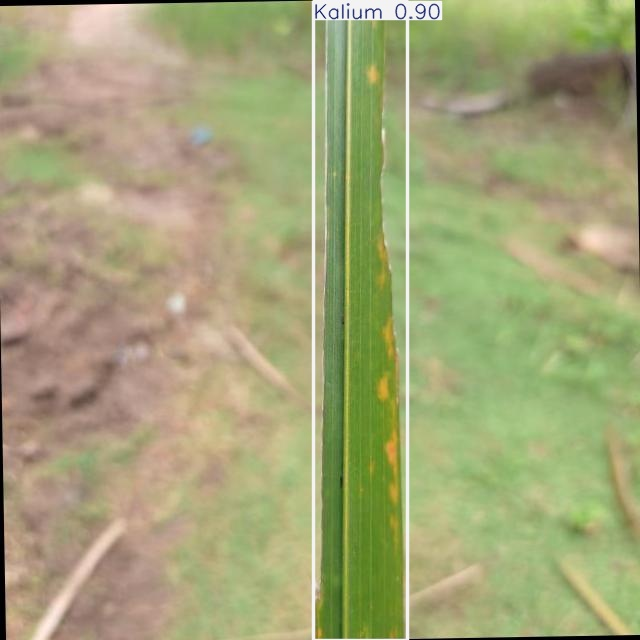Kalium: (313, 1, 408, 640)
